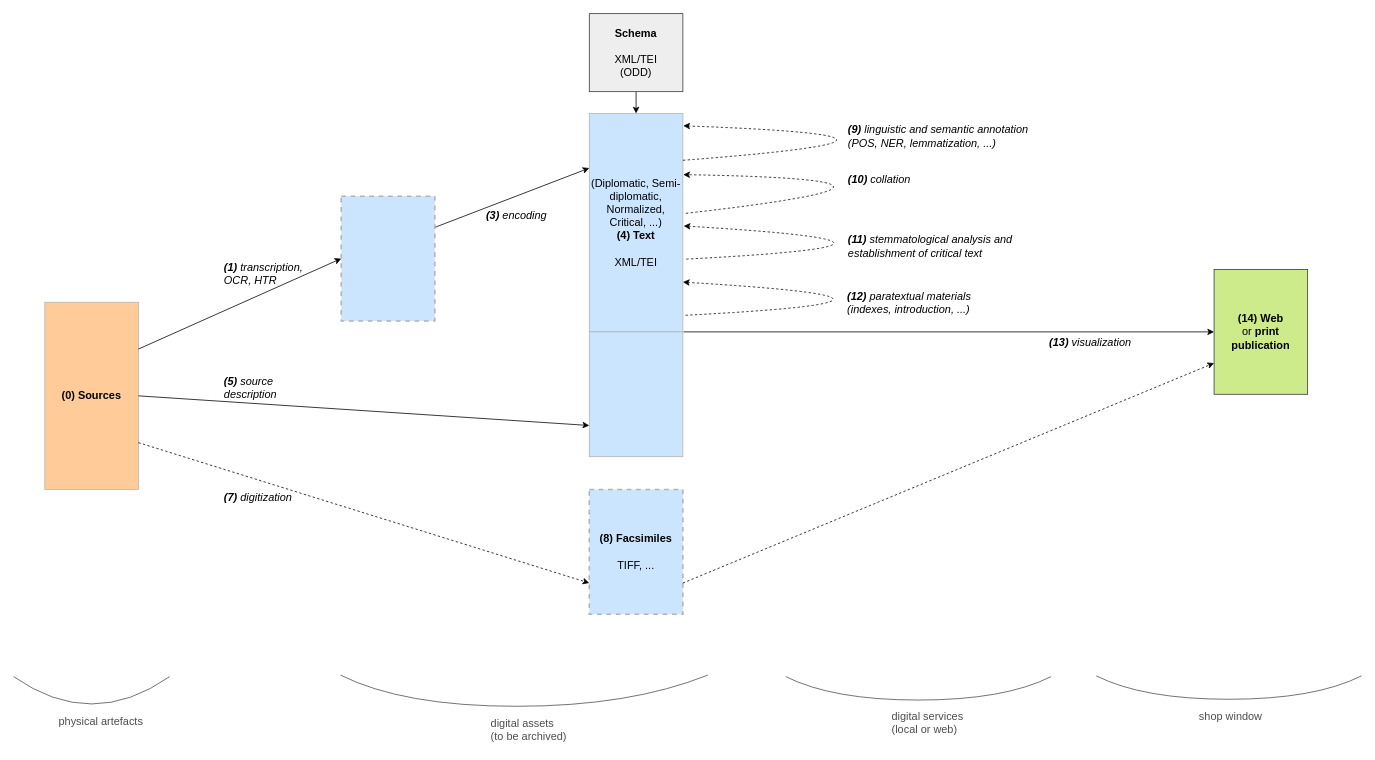
Some shapes in this 1375 by 760 pixel diagram are drawn without their labels. The shapes that lost their labels are listed below. From the top down, each one's centre as x and y in pixels, then its label:
point (387, 258): (Diplomatic, Semi-diplomatic, Normalized, ...) (2) Text TXT or XML
point (636, 394): (6) Metadata XML/TEI
